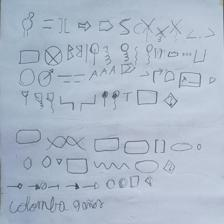aptamer: (22, 12, 34, 37)
assembly-scar: (43, 19, 54, 29)
association: (107, 179, 114, 189)
blunt-restriction-site: (58, 18, 69, 34)
cds: (99, 21, 113, 31)
cds-arrow: (78, 21, 91, 32)
chromosomal-locus: (119, 18, 130, 35)
circular-plasmid: (134, 23, 141, 34)
complex-sbgn: (16, 130, 41, 144)
composite: (187, 27, 216, 39)
control: (7, 183, 23, 190)
degradation: (29, 182, 47, 191)
dissociation: (119, 178, 128, 188)
dna-stability-element: (22, 91, 29, 104)
dsNA: (47, 136, 86, 151)
engineered-region: (20, 50, 39, 64)
five-prime-overhang: (57, 74, 72, 83)
five-prime-sticky-restriction-site: (60, 95, 75, 111)
halfround-rectangle: (66, 158, 88, 174), (94, 137, 119, 151)
inert-dna-spacer: (45, 46, 63, 66)
inhibition: (48, 183, 59, 190)
intron: (68, 44, 82, 60)
location-dna: (90, 43, 99, 65)
location-dna-no-top: (85, 44, 88, 62)
location-protein: (121, 43, 129, 61)
location-protein-no-top: (103, 46, 111, 64)
location-rna: (146, 44, 153, 65)
location-rna-no-top: (135, 46, 138, 66)
macromolecule: (125, 140, 149, 155)
ncrna: (168, 51, 179, 57)
no-glyph-assigned: (155, 139, 165, 153), (155, 47, 163, 60)
nuclease-site: (142, 19, 153, 42)
omitted-detail: (183, 52, 191, 56)
operator: (194, 49, 206, 63)
origin-of-replication: (19, 68, 35, 85)
origin-of-transfer: (37, 69, 54, 87)
polyA: (90, 66, 115, 80)
polypeptide-region: (121, 64, 136, 74)
primer-binding-site: (140, 71, 149, 77)
process: (129, 176, 140, 188)
promoter: (152, 68, 162, 84)
protease-site: (156, 26, 168, 44)
protein: (135, 160, 159, 173), (171, 143, 192, 151)
protein-stability-element: (35, 93, 44, 110)
replacement-glyph: (163, 93, 179, 108), (163, 160, 175, 174), (144, 176, 154, 187)
ribonuclease-site: (171, 19, 181, 45)
ribosome-entry-site: (165, 71, 175, 81)
rna-stability-element: (47, 93, 56, 112)
signature: (179, 72, 202, 88)
simple-chemical-circle: (197, 144, 202, 151)
simple-chemical-hexagon: (23, 157, 32, 170)
simple-chemical-pentagon: (42, 156, 50, 168)
simple-chemical-triangle: (56, 159, 63, 166)
specific-recombination-site: (209, 76, 216, 84)
ssNA: (93, 160, 130, 170)
stimulation: (83, 182, 99, 189)
terminator: (123, 91, 133, 103)
three-prime-overhang: (74, 74, 85, 84)
three-prime-sticky-restriction-site: (79, 94, 96, 111)
transcription-end: (102, 91, 109, 108)
translation-end: (112, 90, 120, 111)
